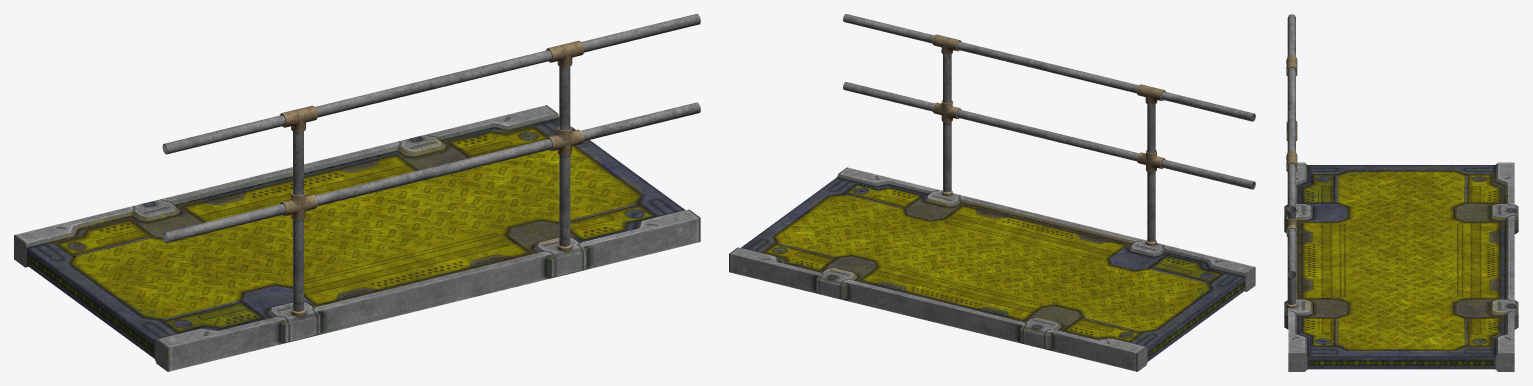
The model's file is catwalk_straight_railing_oneside.dae.
3 views of the same model, side by side, from view 1: azimuth 30°, elevation 25°; view 2: azimuth 150°, elevation 25°; view 3: azimuth 270°, elevation 25° (orthographic). The views are drawn at different scales.
Visible parts, largest first — view 1: straight_railing_oneside, railing__6_; view 2: straight_railing_oneside, railing__6_; view 3: straight_railing_oneside, railing__6_.
Boxes of the visible parts, x1,y1,x2,y2 form: straight_railing_oneside: (14,105,700,371); railing__6_: (162,14,700,317); straight_railing_oneside: (729,167,1255,371); railing__6_: (843,14,1255,245); straight_railing_oneside: (1284,162,1518,371); railing__6_: (1286,14,1297,308).
Bounding box in the file's own units: 4 × 1.63 × 2.07.
